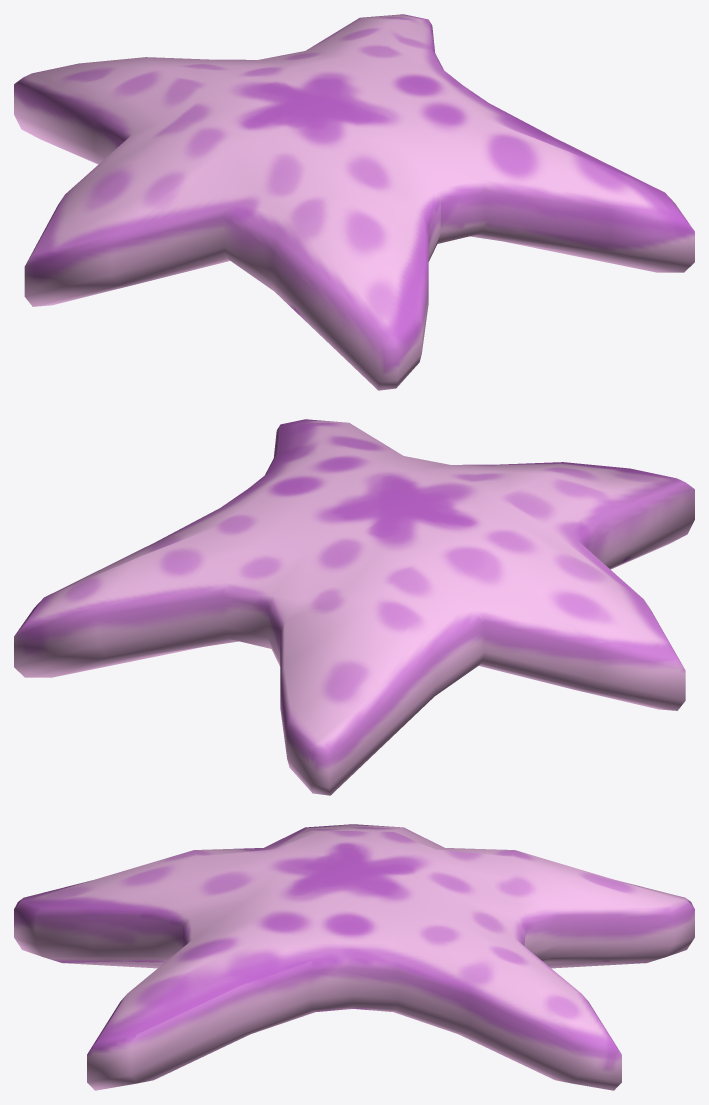
File: Croissant_V2 1.fbx
The picture shows the model from 3 angles, top to bottom: view 1: azimuth 30°, elevation 25°; view 2: azimuth 150°, elevation 25°; view 3: azimuth 270°, elevation 25°; orthographic projection. The views are drawn at different scales.
Visible parts, largest first — view 1: Estrella; view 2: Estrella; view 3: Estrella.
Boxes of the visible parts, x1,y1,x2,y2 form: Estrella: (14,14,694,390); Estrella: (14,419,694,795); Estrella: (14,824,694,1090).
Bounding box in the file's own units: 75.4 × 18.97 × 91.22.
